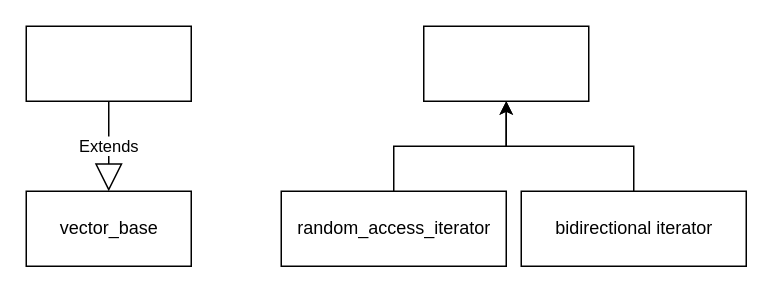
Image size: 773x293. Some labels were removed from this diagram. The centre of each missing label's shape, as x and y in pixels:
"iterator_traits" belongs at point 505,63.
"vector" belongs at point 108,63.
